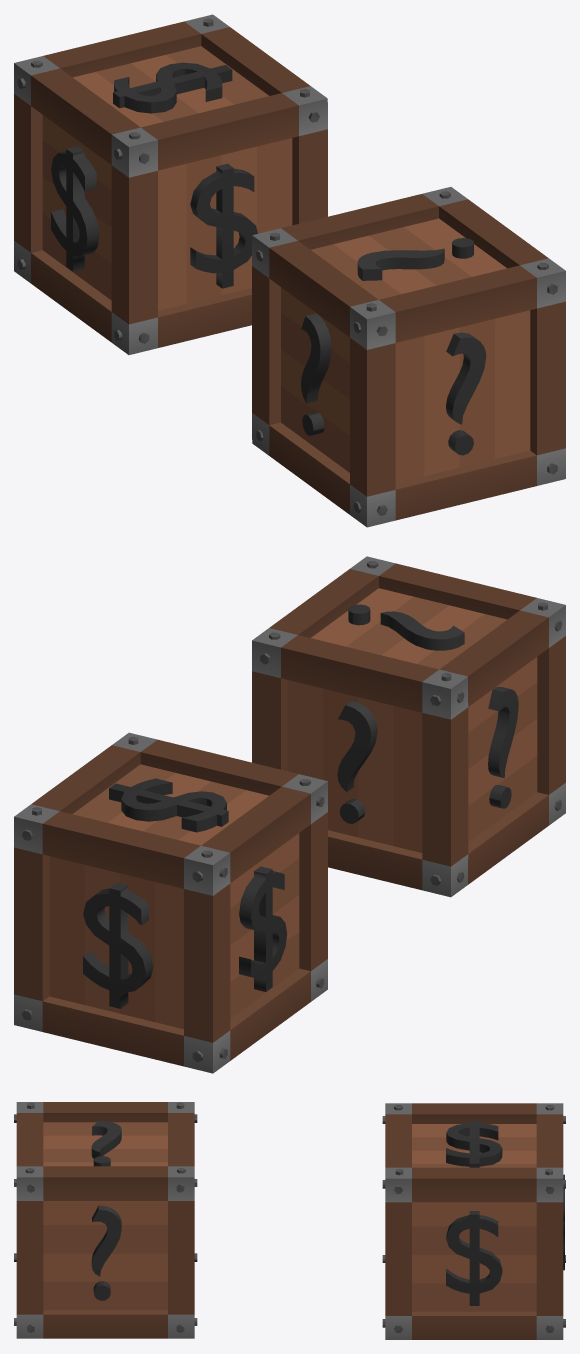
The model's file is Caixas.fbx.
3 views of the same model, one above another, from view 1: azimuth 30°, elevation 25°; view 2: azimuth 150°, elevation 25°; view 3: azimuth 270°, elevation 25° (orthographic). The views are drawn at different scales.
Visible parts, largest first — view 1: Caixa Power Ups, caixa de moeda; view 2: caixa de moeda, Caixa Power Ups; view 3: caixa de moeda, Caixa Power Ups.
Boxes of the visible parts, x1,y1,x2,y2 form: Caixa Power Ups: (252, 187, 565, 527); caixa de moeda: (14, 14, 327, 354); caixa de moeda: (14, 732, 327, 1073); Caixa Power Ups: (252, 556, 565, 897); caixa de moeda: (382, 1103, 565, 1339); Caixa Power Ups: (14, 1102, 197, 1338).
Size of the model in its own units: 194 by 197 by 585.
Materials: 3 (3 with a texture image).
